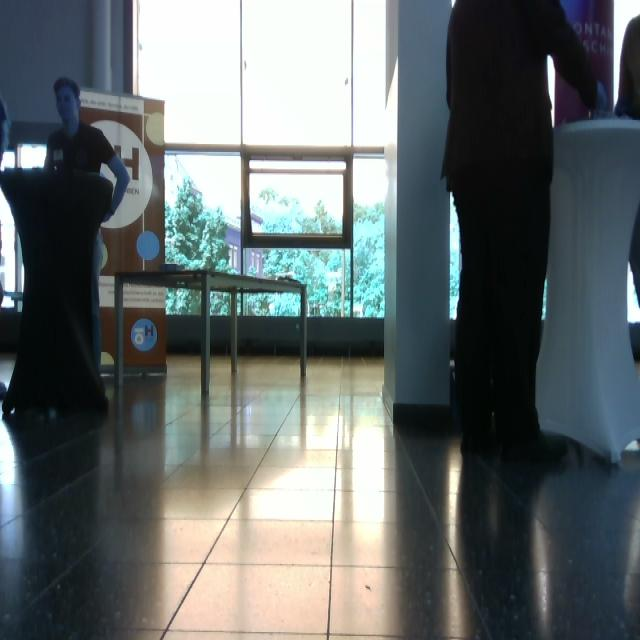person: (441, 1, 599, 464), (43, 77, 131, 380)
pillar: (535, 116, 640, 465), (382, 1, 453, 420)
table: (113, 265, 311, 400)
tiled floor: (2, 352, 639, 638)
window: (131, 1, 389, 322)
